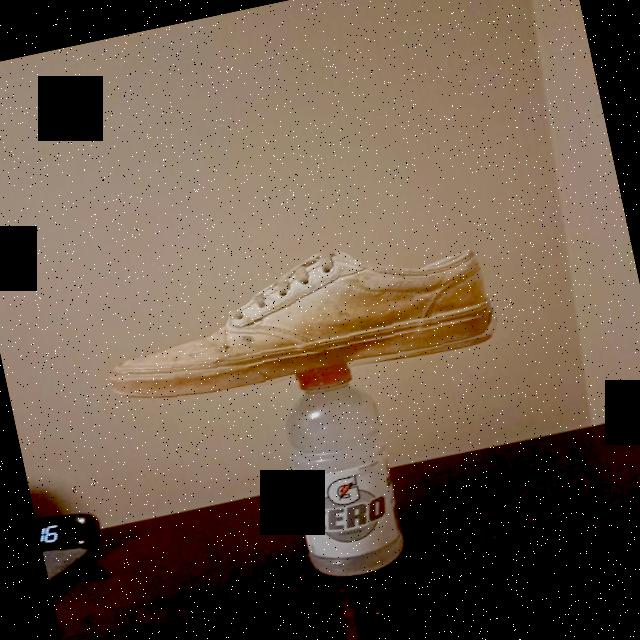shoe: (90, 219, 502, 423)
